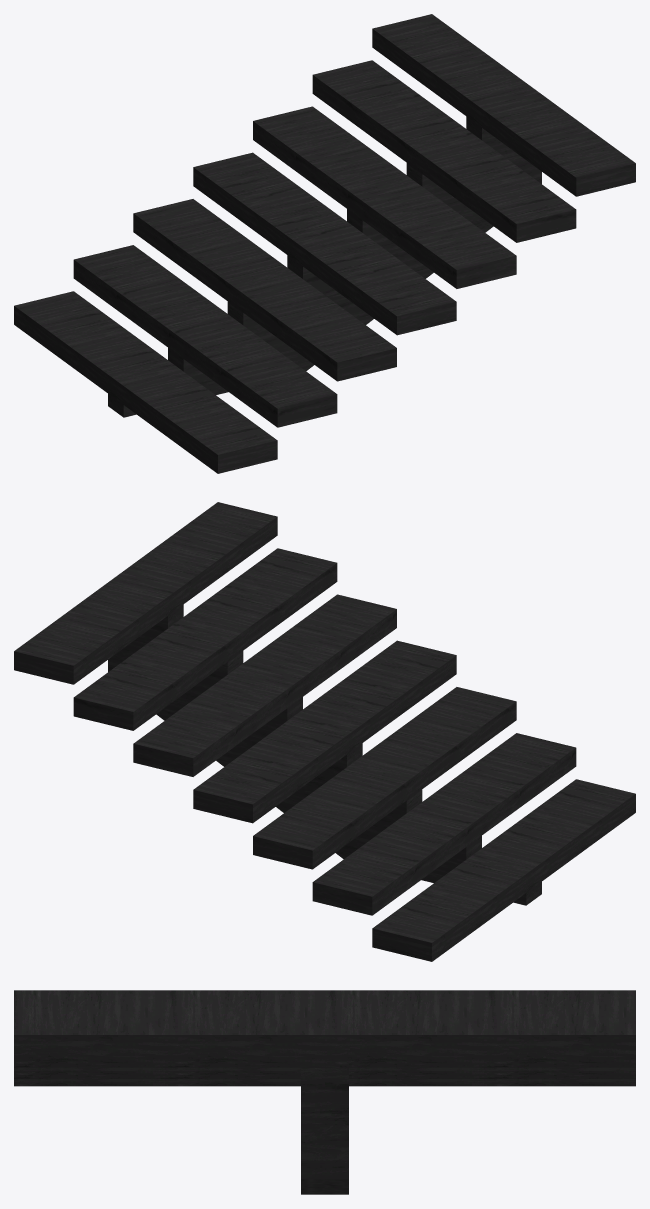
The model's file is Soupnewstairs002.glb.
3 renders of one model, top to bottom at view 1: azimuth 30°, elevation 25°; view 2: azimuth 150°, elevation 25°; view 3: azimuth 270°, elevation 25°, orthographic. The views are drawn at different scales.
Parts seen in each view (by area): view 1: Soupnewstairs002_high_1; view 2: Soupnewstairs002_high_1; view 3: Soupnewstairs002_high_1.
Boxes of the visible parts, bbox=[...] form: Soupnewstairs002_high_1: bbox=[14, 14, 635, 473]; Soupnewstairs002_high_1: bbox=[14, 502, 635, 961]; Soupnewstairs002_high_1: bbox=[14, 990, 635, 1194].
Bounding box in the file's own units: 2.6 × 1.32 × 2.2.
Materials: 1 (1 with a texture image).
